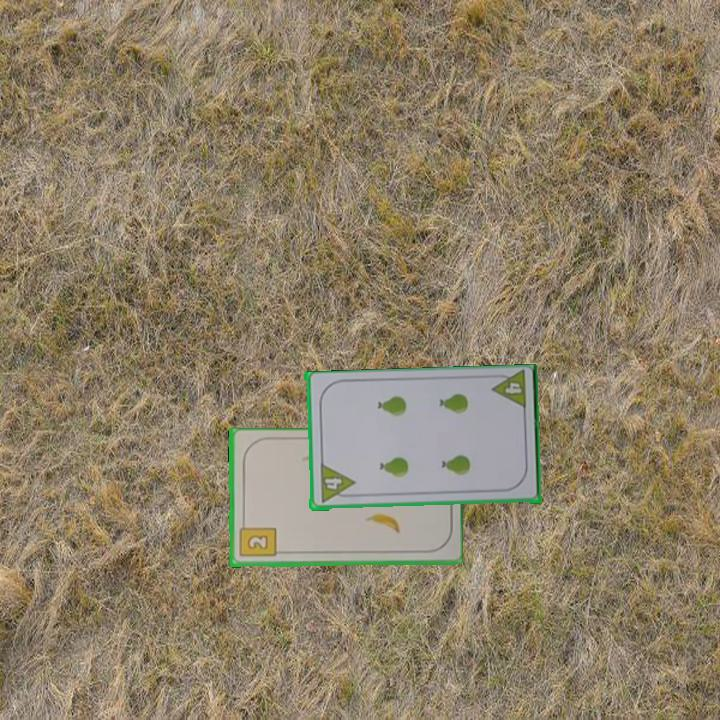2b: (236, 518, 278, 560)
4p: (320, 461, 356, 494), (501, 379, 524, 398)
